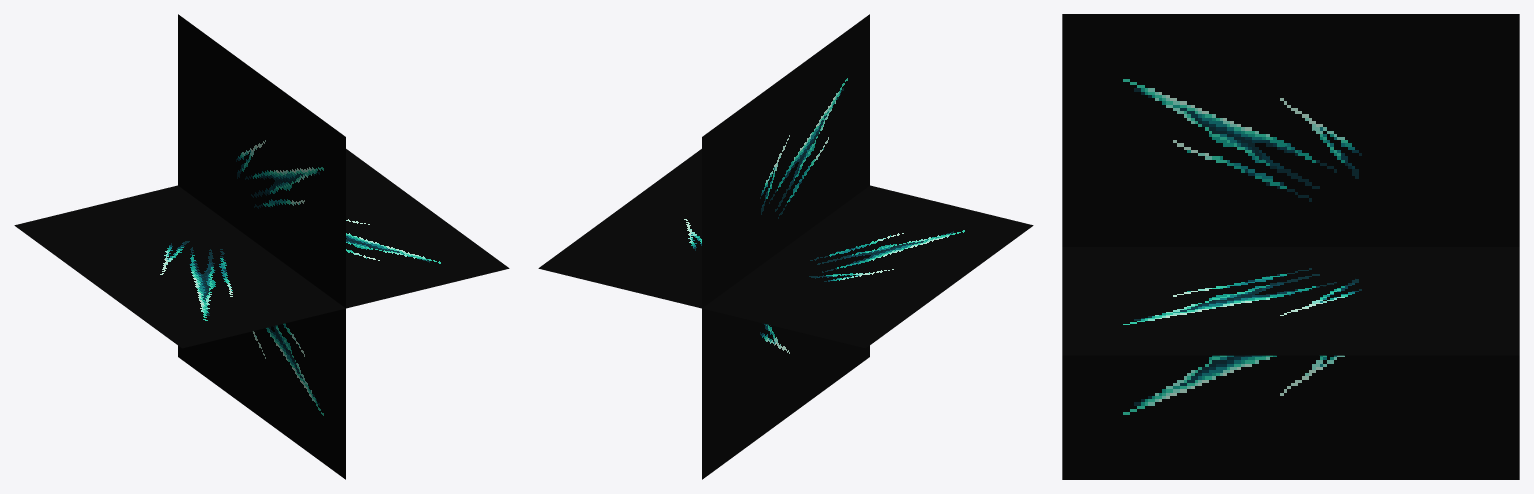
File: vfx_gale_thrust_4.gltf
The picture shows the model from 3 angles, left to right: view 1: azimuth 30°, elevation 25°; view 2: azimuth 150°, elevation 25°; view 3: azimuth 270°, elevation 25°; orthographic projection. The views are drawn at different scales.
Visible parts, largest first — view 1: cube (×4); view 2: cube (×4); view 3: cube (×4).
Boxes of the visible parts, x1,y1,x2,y2 form: cube (×4): [14, 14, 509, 479]; cube (×4): [538, 14, 1033, 479]; cube (×4): [1062, 14, 1519, 479].
Bounding box in the file's own units: 2.25 × 2.25 × 2.
Materials: 1 (1 with a texture image).
